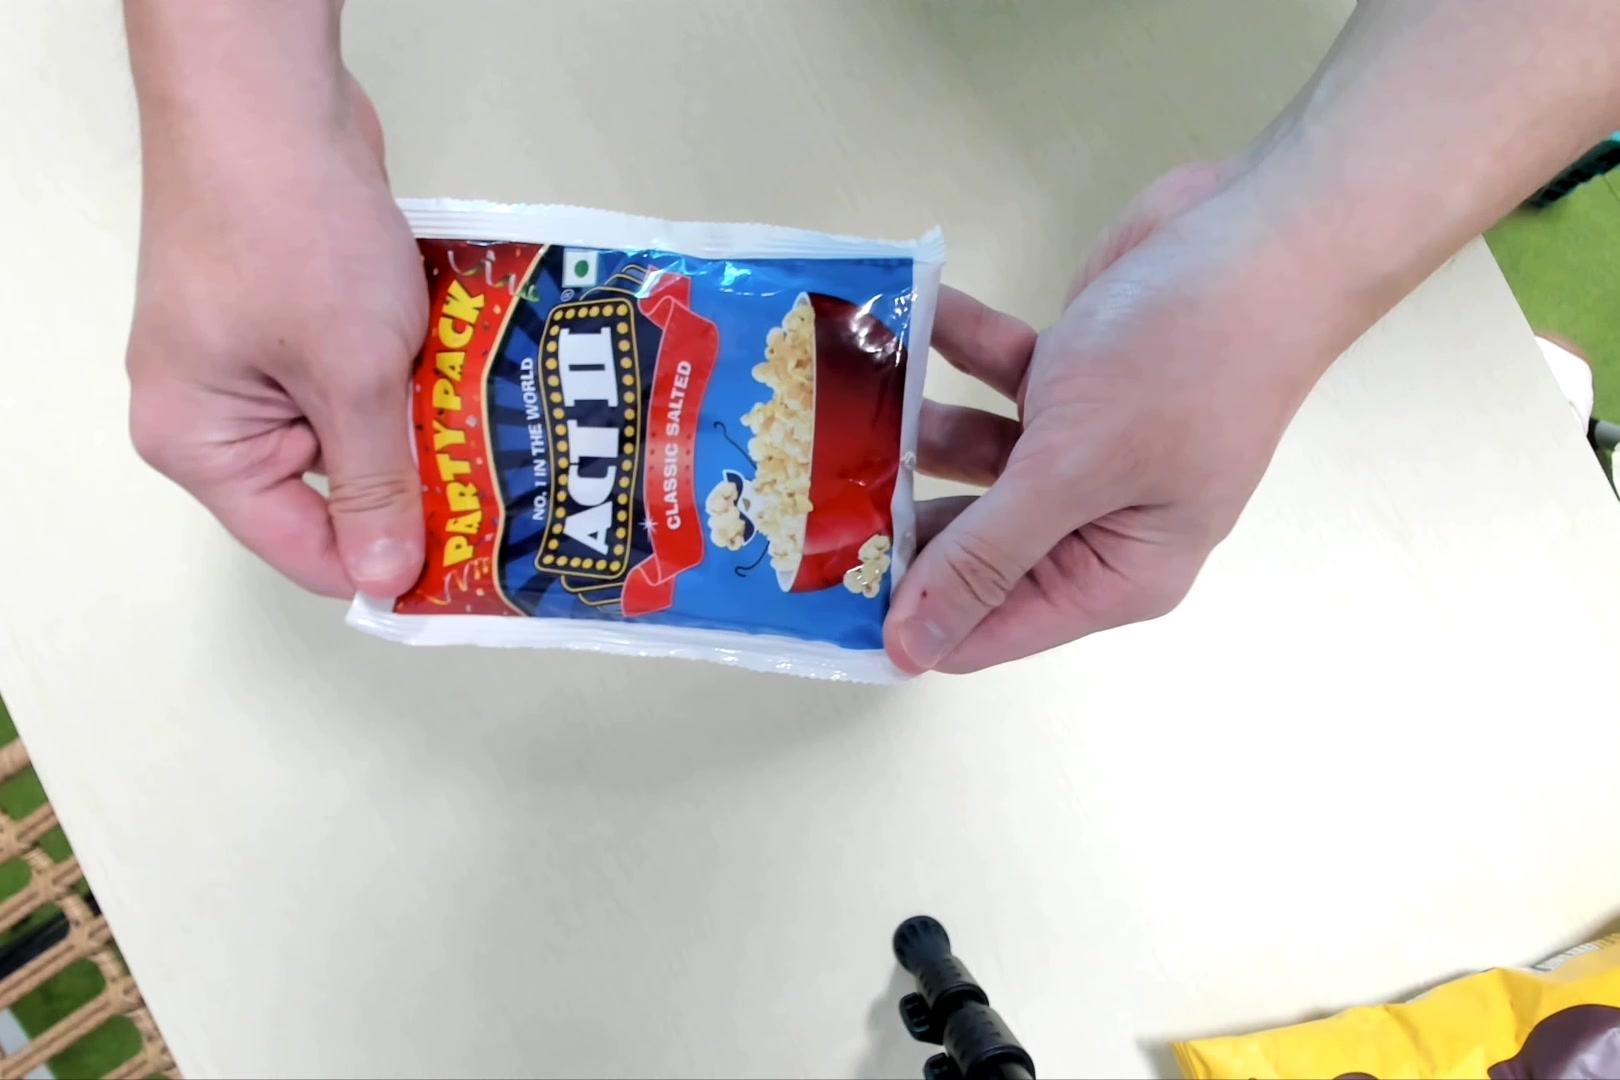PotatoChipsKeropok_100-199g_NonHalal_NonHealthy: (352, 184, 941, 698)
